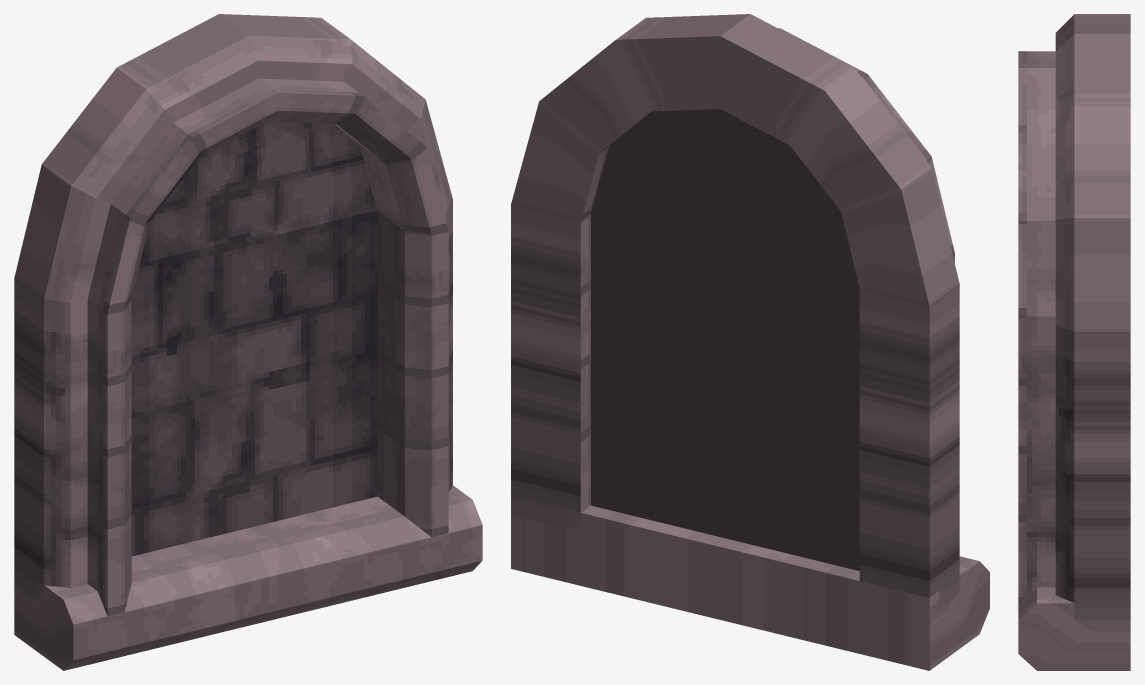
The model's file is wandnische_rund_raum_a.glb.
3 renders of one model, left to right at view 1: azimuth 30°, elevation 25°; view 2: azimuth 150°, elevation 25°; view 3: azimuth 270°, elevation 25°, orthographic. The views are drawn at different scales.
Visible parts, largest first — view 1: gewaende, platte, sohlbank; view 2: gewaende, platte, sohlbank; view 3: gewaende, sohlbank.
Boxes of the visible parts, box(x1,y1,x2,y2) form: gewaende: box(14, 14, 452, 616); platte: box(131, 121, 377, 556); sohlbank: box(14, 485, 482, 670); gewaende: box(511, 14, 959, 610); platte: box(591, 109, 859, 570); sohlbank: box(511, 497, 989, 670); gewaende: box(1018, 14, 1130, 620); sohlbank: box(1018, 587, 1130, 670).
Size of the model in its own units: 1.5 by 2 by 0.375.
1 material, 1 textured.
